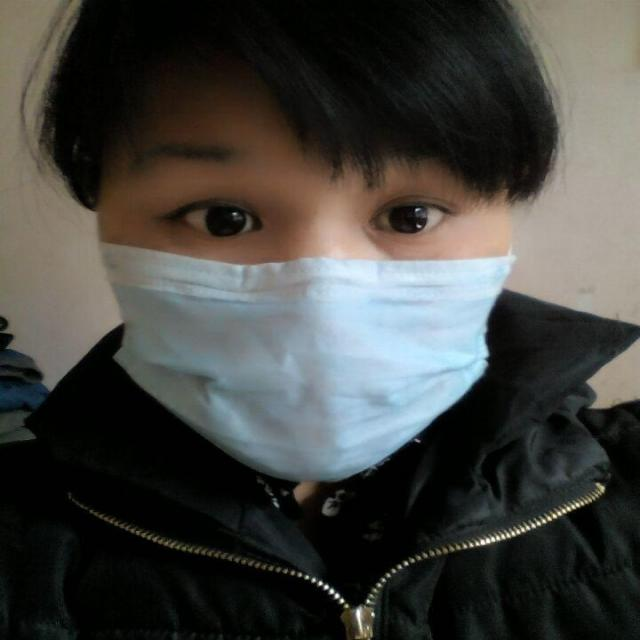mask: (103, 33, 512, 483)
